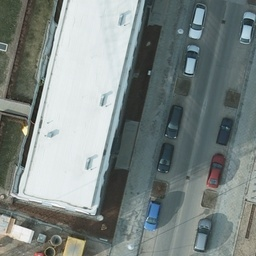car: (187, 4, 208, 38), (194, 217, 212, 252), (156, 143, 176, 174), (238, 11, 256, 45), (181, 44, 200, 75), (165, 104, 181, 139), (207, 155, 223, 187), (144, 199, 159, 232), (215, 117, 231, 147)
